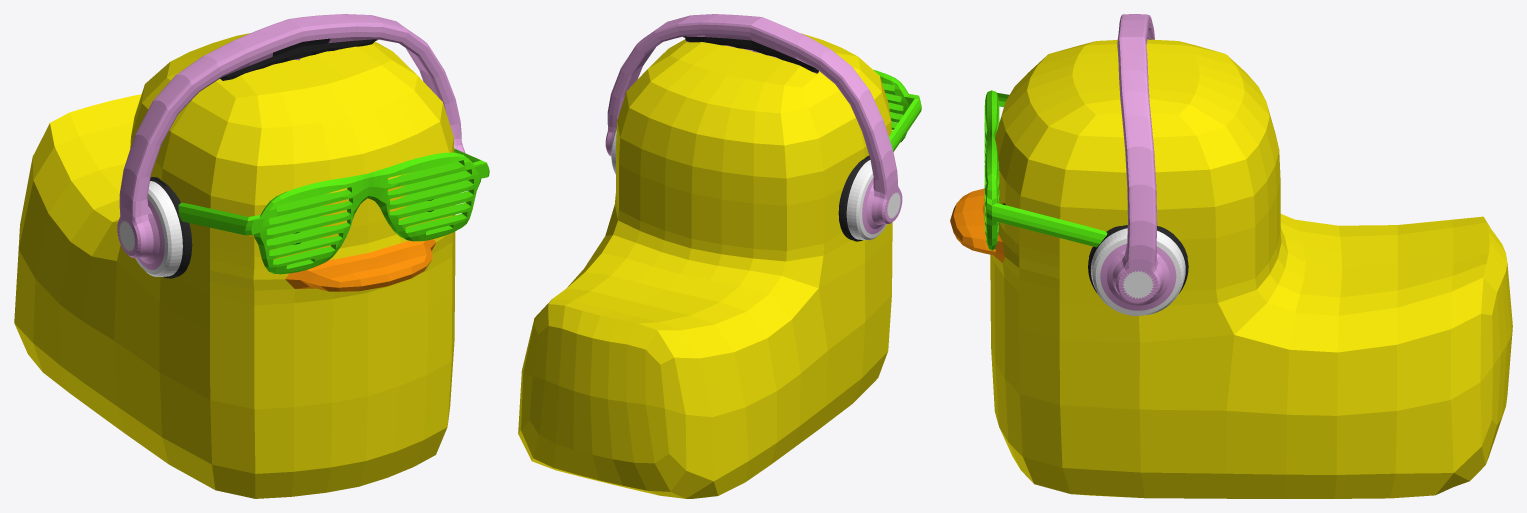
Rendered from Duck_EcstasyState.glb.
3 views of the same model, side by side, from view 1: azimuth 30°, elevation 25°; view 2: azimuth 150°, elevation 25°; view 3: azimuth 270°, elevation 25° (orthographic). The views are drawn at different scales.
Visible parts, largest first — view 1: Duck; view 2: Duck; view 3: Duck.
Part boxes in pixels (x1,y1,x2,y2): Duck: [14, 14, 489, 498]; Duck: [518, 14, 921, 498]; Duck: [950, 14, 1512, 498].
Bounding box in the file's own units: 2.59 × 3.18 × 3.94.
